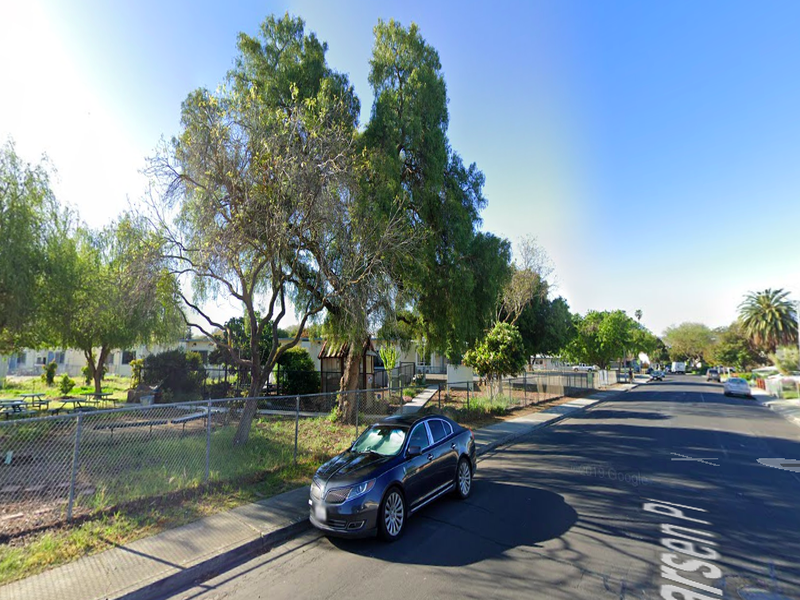tree: (234, 11, 487, 425), (130, 104, 426, 449)
